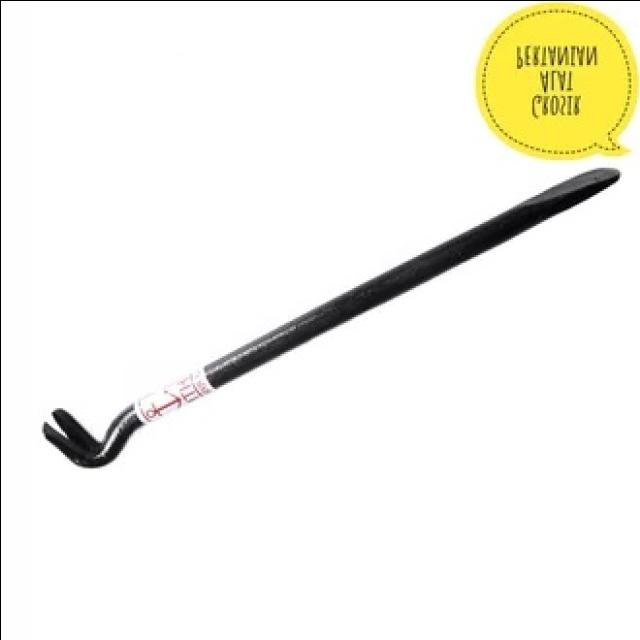Linggis: (43, 167, 621, 472)
